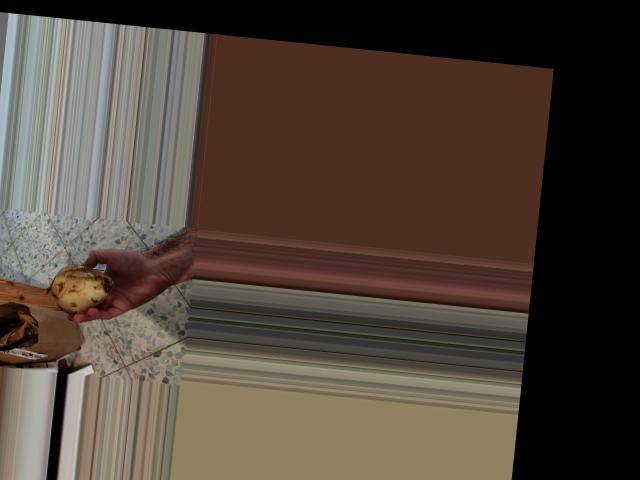onion: (43, 258, 118, 319)
